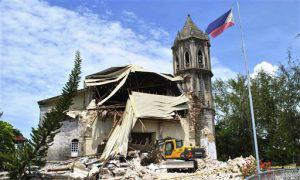sagging_roof: (76, 62, 194, 137)
